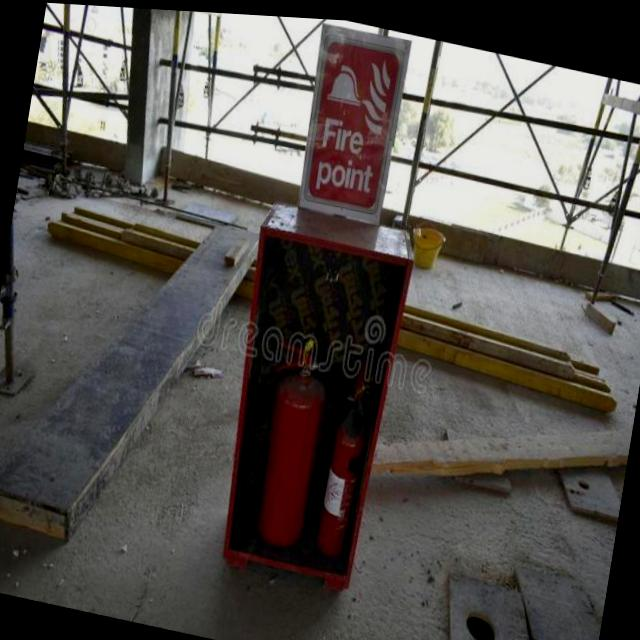FireExtinguisher: (246, 316, 340, 554), (308, 357, 382, 569)
